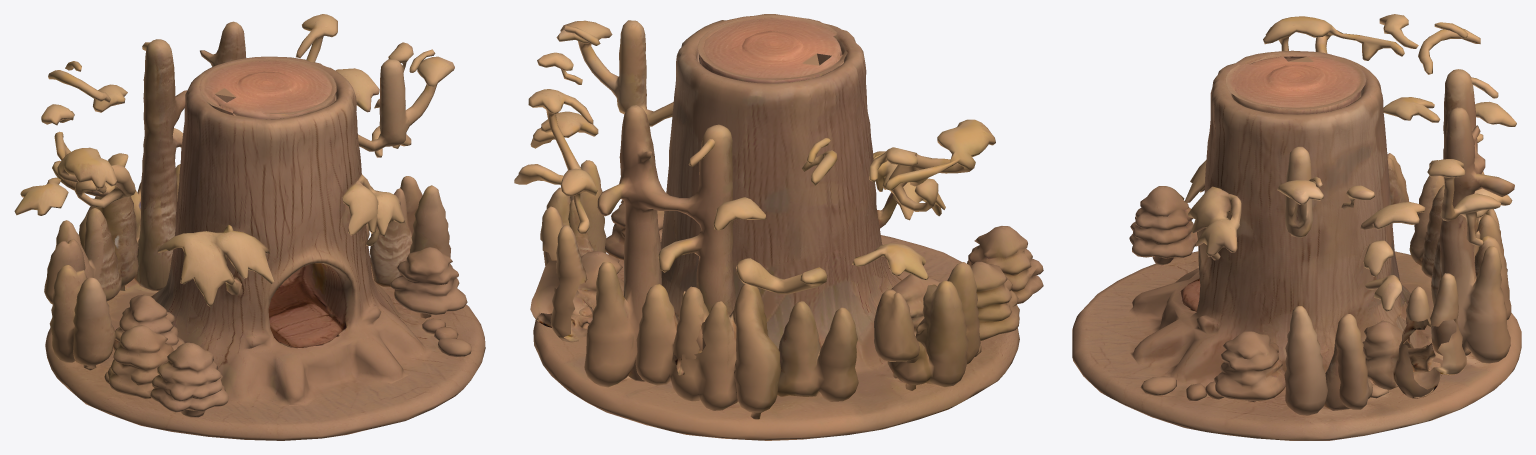
File: stump_door.glb
3 views of the same model, side by side, from view 1: azimuth 30°, elevation 25°; view 2: azimuth 150°, elevation 25°; view 3: azimuth 270°, elevation 25° (orthographic). The views are drawn at different scales.
Bounding box in the file's own units: 1.91 × 1.26 × 1.88.
Materials: 1 (1 with a texture image).
